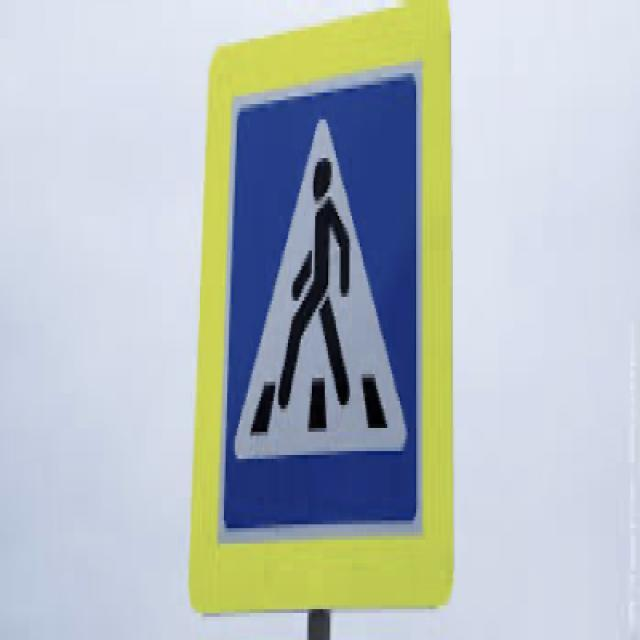crosswalk_sign: (216, 56, 426, 540)
